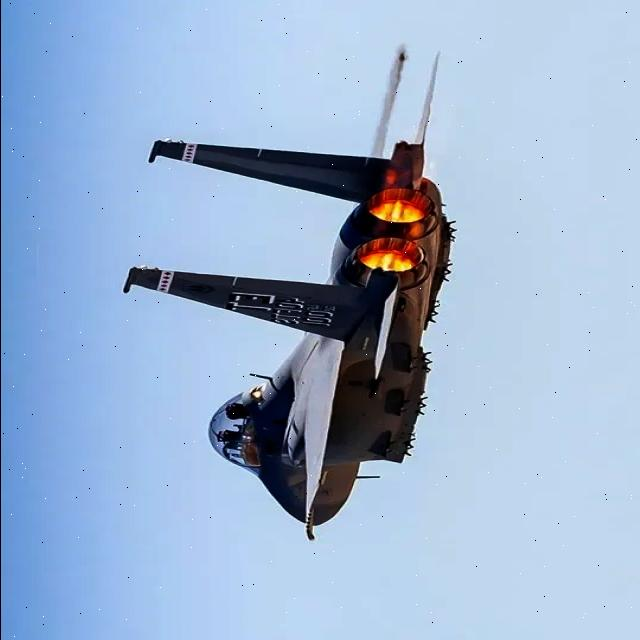F15: (60, 51, 508, 562)
